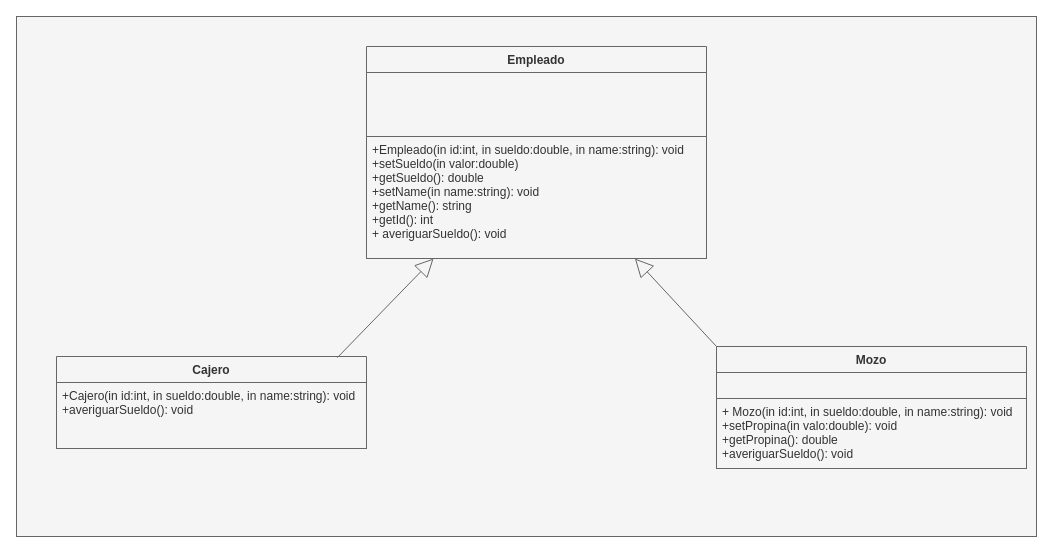
The diagram is 1053 pixels wide and 553 high, and some of its shapes have lost their labels. Each missing label, with the centre of its shape:
+propina: double: pixel 871 385
-sueldo: Doble - id: int - name: string: pixel 536 104
